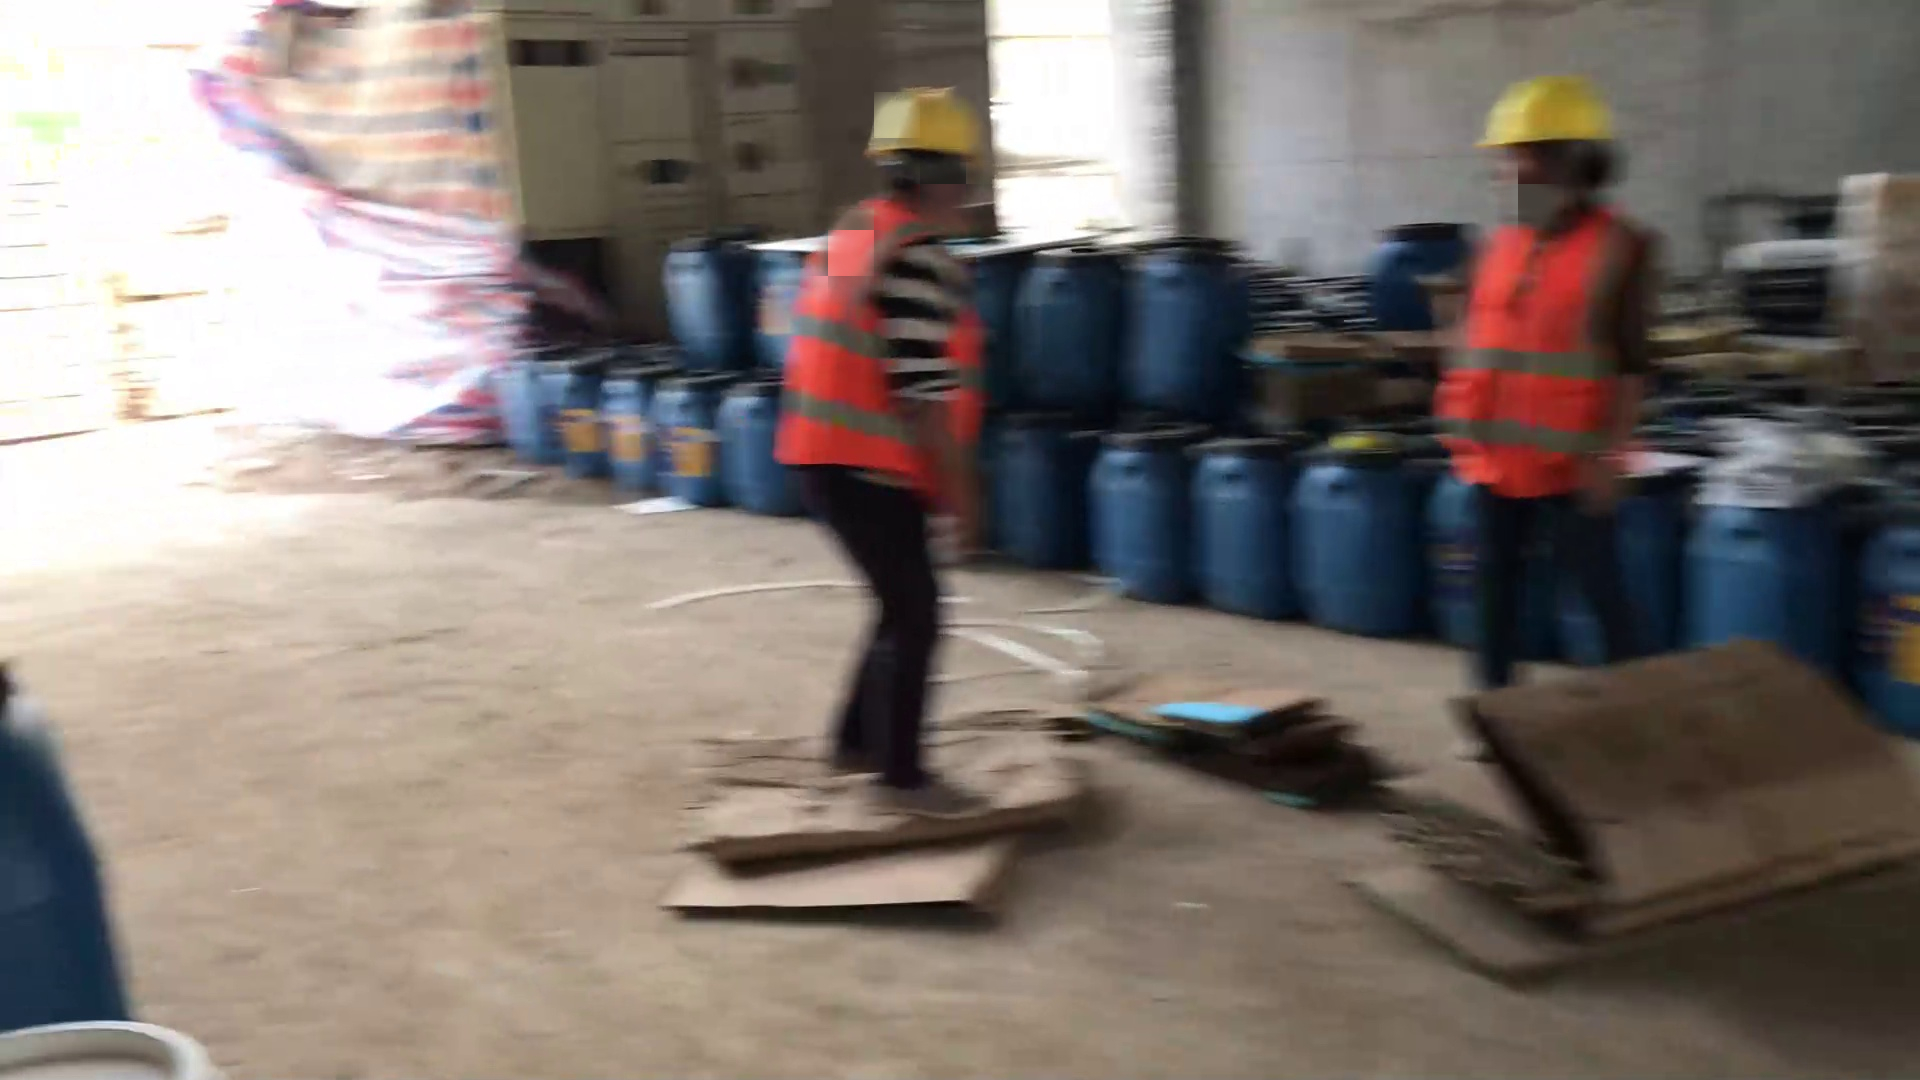helmet: (1463, 74, 1625, 154), (862, 87, 985, 175)
person: (768, 83, 1005, 827), (1432, 74, 1664, 754)
vest: (770, 192, 984, 498), (1433, 202, 1638, 504)
